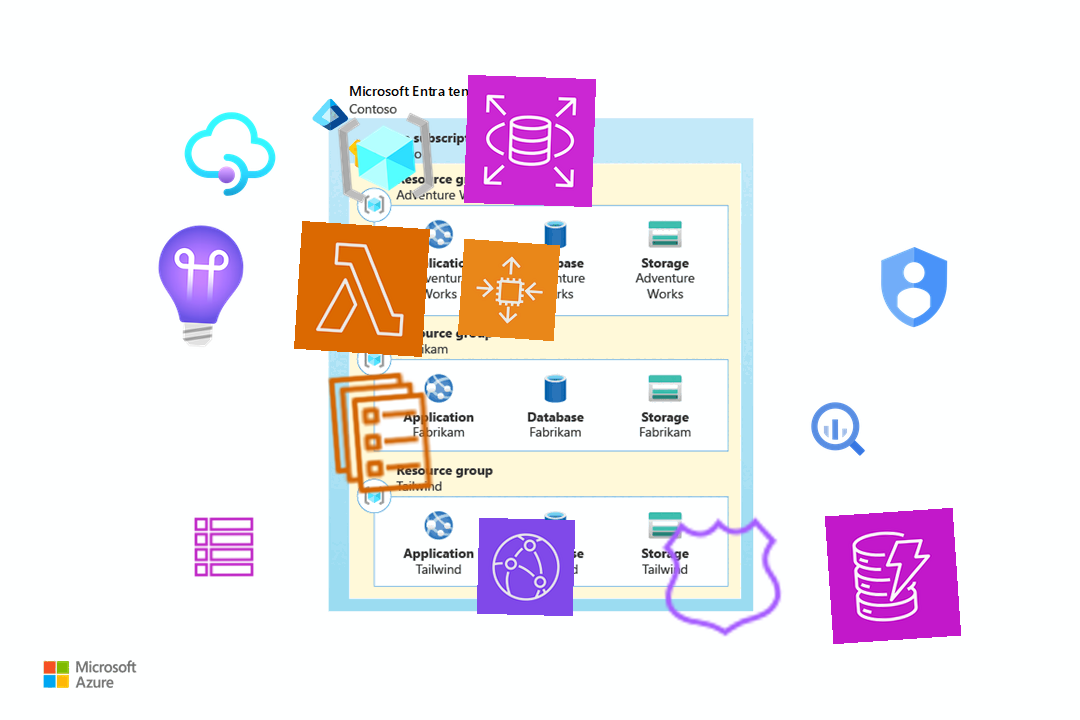aws_amazon_cloudfront: (476, 517, 576, 617)
aws_amazon_dynamodb: (824, 507, 962, 645)
aws_amazon_ec2_auto_scaling: (457, 238, 561, 342)
aws_amazon_rds: (463, 74, 597, 208)
aws_dynamodb_table: (191, 514, 257, 580)
aws_elastic_container_service_service: (312, 364, 450, 502)
aws_lambda: (293, 220, 431, 358)
aws_route_53_hosted_zone: (655, 509, 791, 645)
azure_api_management_services: (181, 105, 279, 203)
azure_application_insights: (132, 218, 268, 354)
azure_resource_groups: (334, 106, 438, 210)
gcp_bigquery: (805, 396, 871, 462)
gcp_identity_and_access_management: (865, 238, 963, 336)
